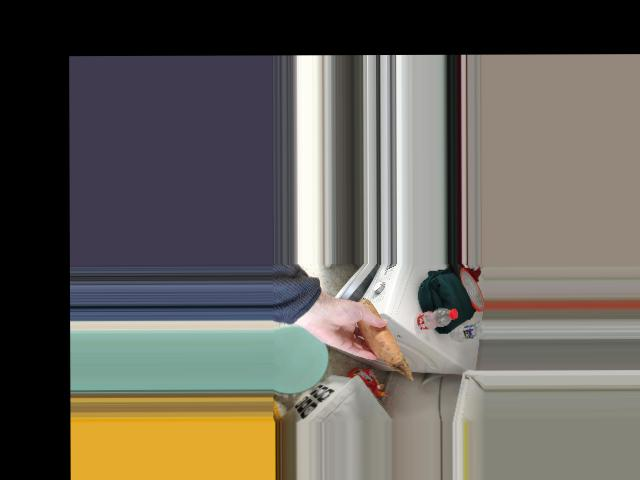sweet_potato: (358, 312, 403, 358)
